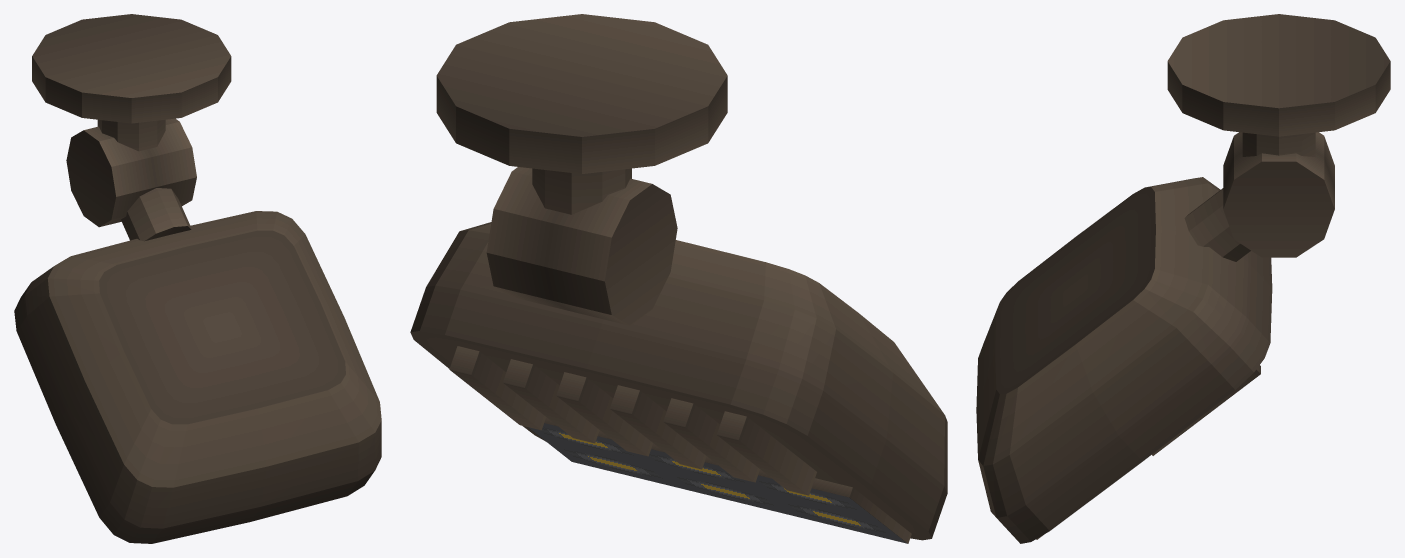
File: floodlight_lithdsxf1kn_c.obj
3 renders of one model, left to right at view 1: azimuth 30°, elevation 25°; view 2: azimuth 150°, elevation 25°; view 3: azimuth 270°, elevation 25°, orthographic. The views are drawn at different scales.
Parts seen in each view (by area): view 1: fixture; view 2: fixture; view 3: fixture.
Boxes of the visible parts, x1=… form: fixture: x1=14, y1=14, x2=381, y2=543; fixture: x1=410, y1=14, x2=947, y2=543; fixture: x1=976, y1=14, x2=1390, y2=543.
Size of the model in its own units: 0.317 by 0.4199 by 0.3714.
